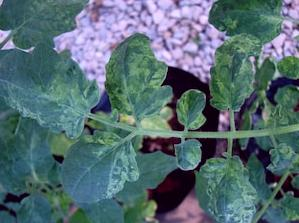Tomato leaf mosaic virus: (0, 42, 99, 136), (58, 127, 140, 209), (102, 33, 174, 122), (190, 145, 257, 223), (209, 35, 265, 111), (208, 0, 284, 47), (174, 83, 207, 130), (171, 136, 201, 171)
